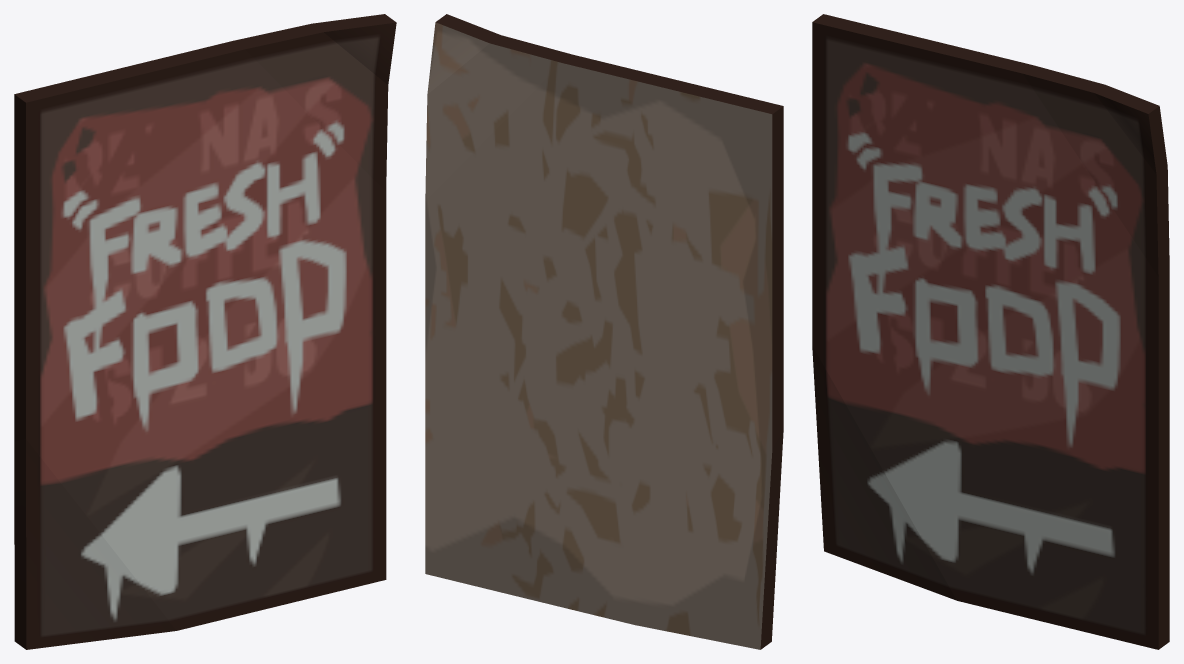
File: SM_Prop_Sign_Custom_12.fbx
The picture shows the model from 3 angles, left to right: view 1: azimuth 30°, elevation 25°; view 2: azimuth 150°, elevation 25°; view 3: azimuth 330°, elevation 25°; orthographic projection. The views are drawn at different scales.
Visible parts, largest first — view 1: SM_Prop_Sign_Custom_12; view 2: SM_Prop_Sign_Custom_12; view 3: SM_Prop_Sign_Custom_12.
Part boxes in pixels (x1,y1,x2,y2): SM_Prop_Sign_Custom_12: [14, 14, 396, 649]; SM_Prop_Sign_Custom_12: [425, 14, 783, 649]; SM_Prop_Sign_Custom_12: [812, 14, 1169, 649].
Size of the model in its own units: 112 by 168 by 15.14.
